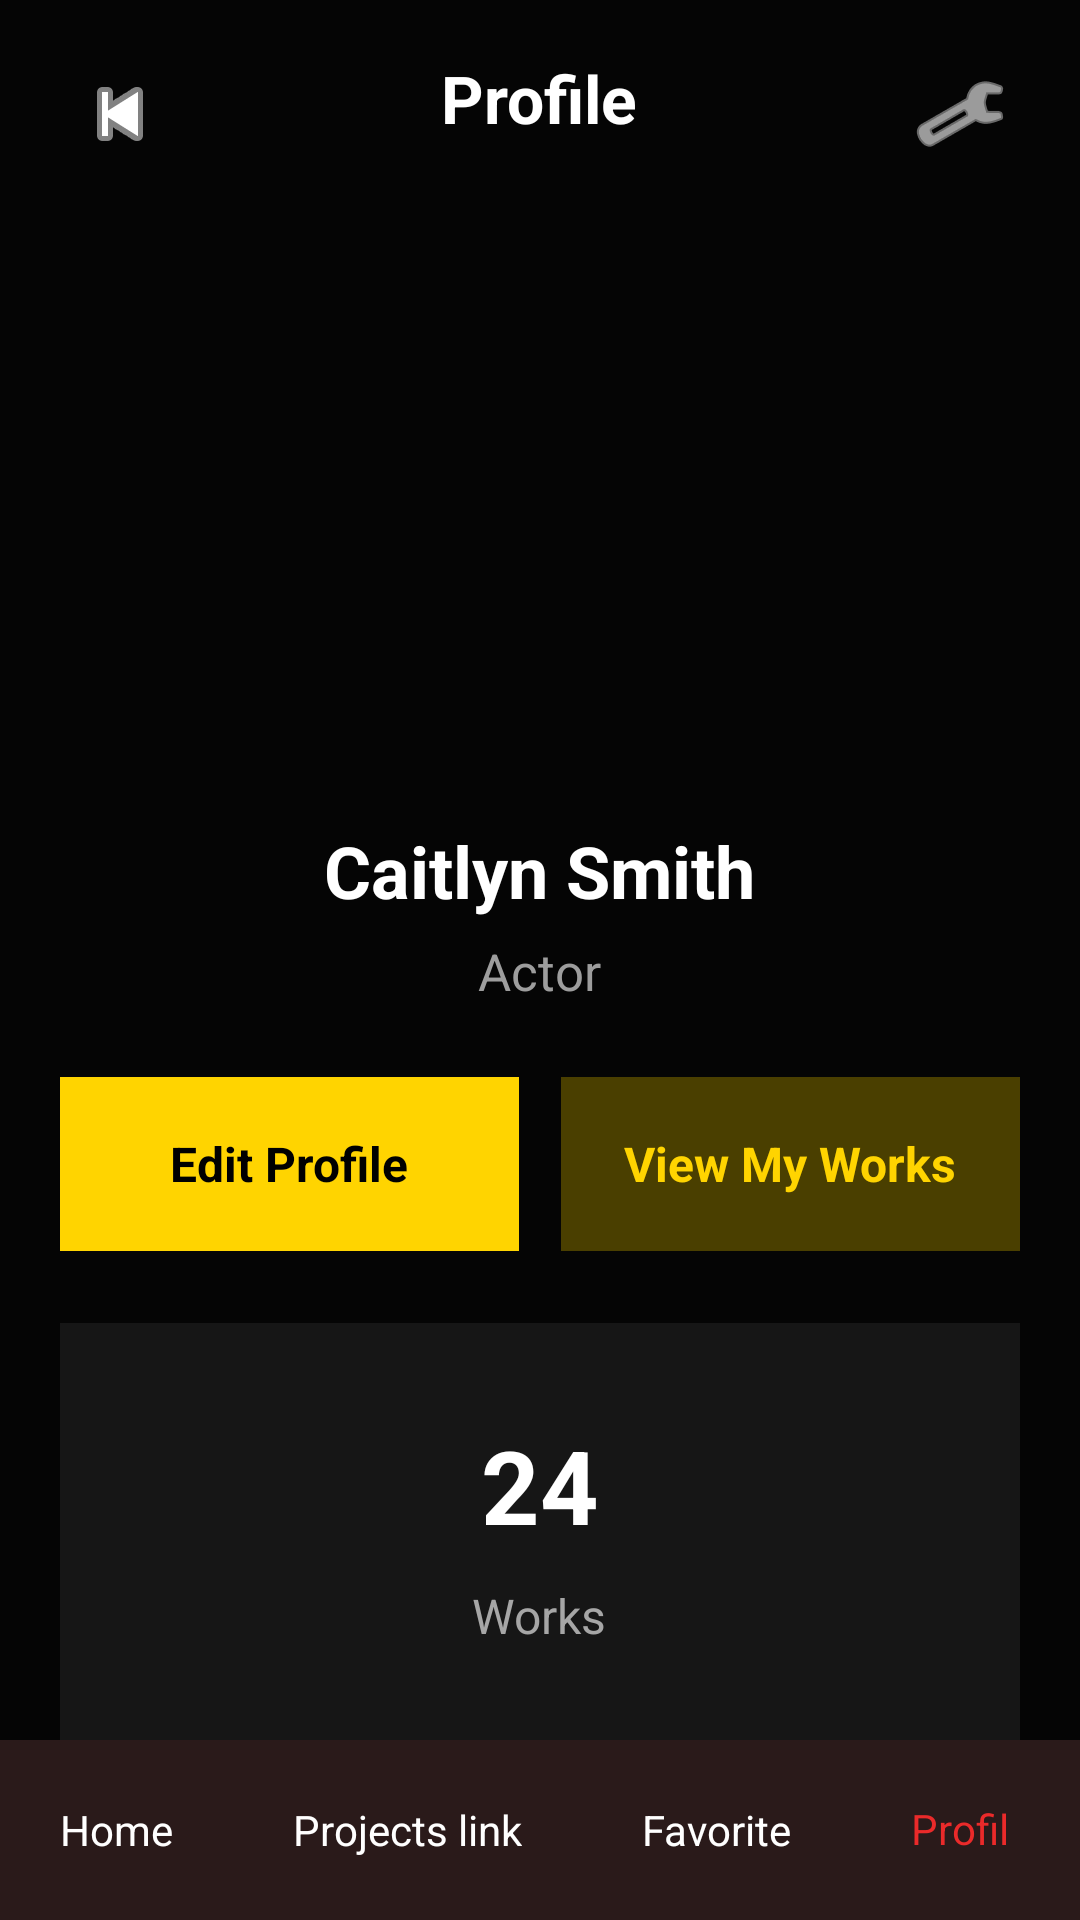

Locate icon controls on the screen. Image size 1080*1920, boxes as (x1, y1, x2, y2).
manage: (917, 81, 1003, 147)
previous: (97, 87, 143, 141)
